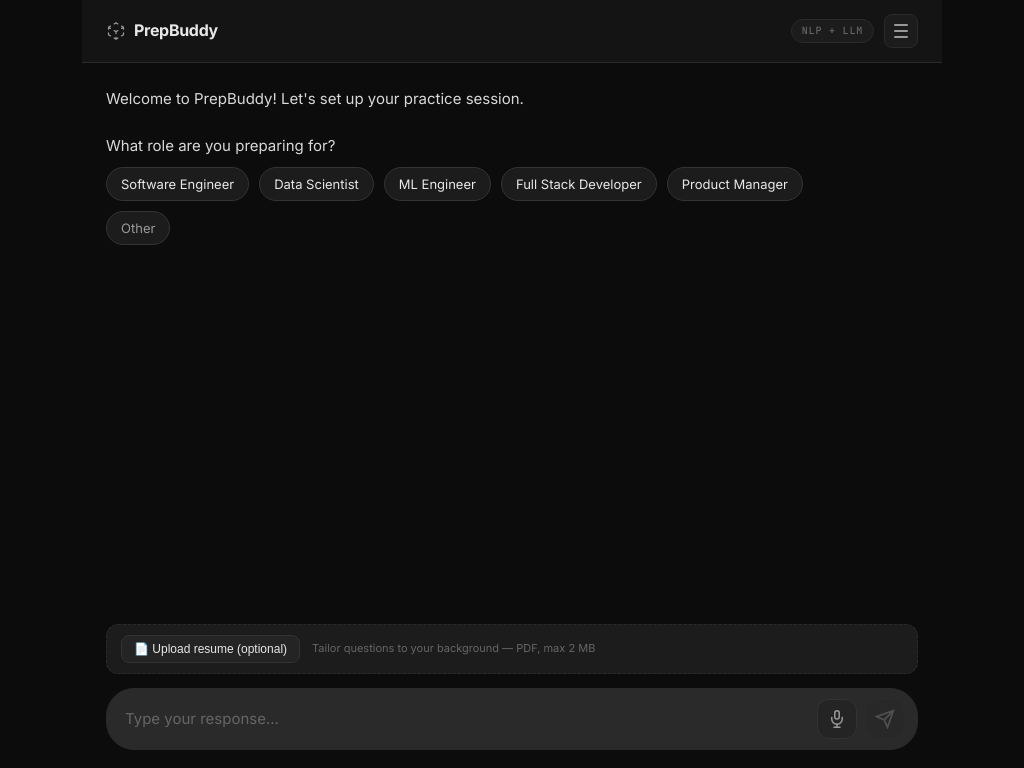
Test: App interrupted evaluation recovery › restores a completed evaluation after the SSE request fails
Click the button "Software Engineer".
click(178, 184)  # box [106,167,249,201]
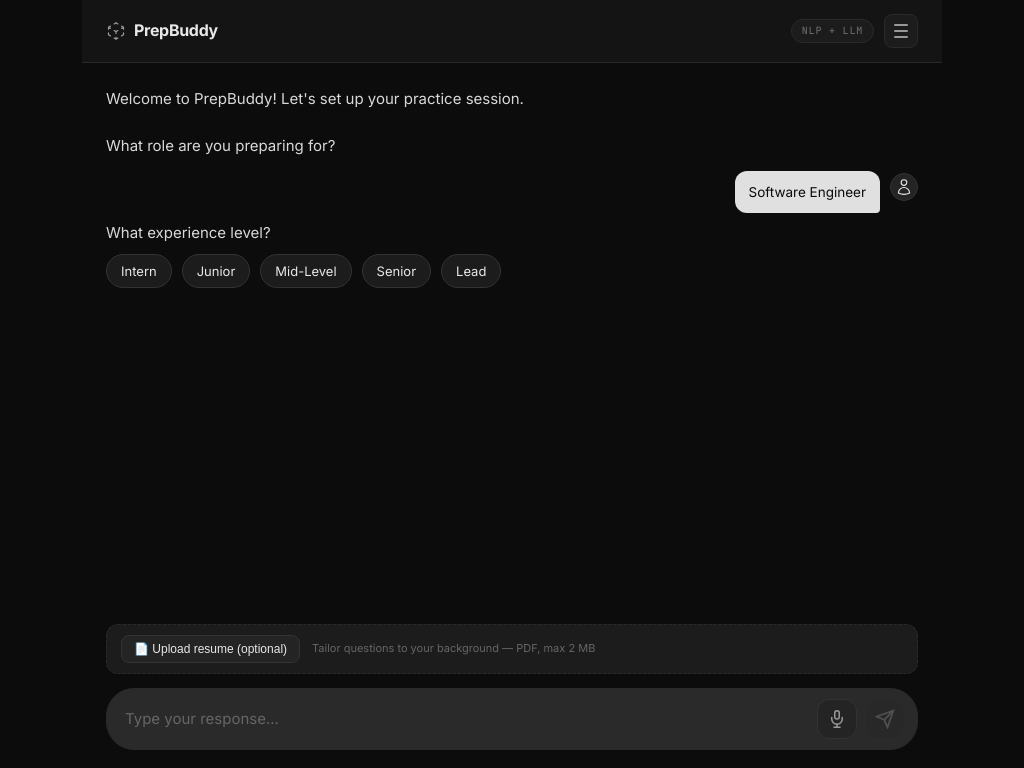
Click the button "Junior".
click(216, 271)  # box [182,254,250,288]
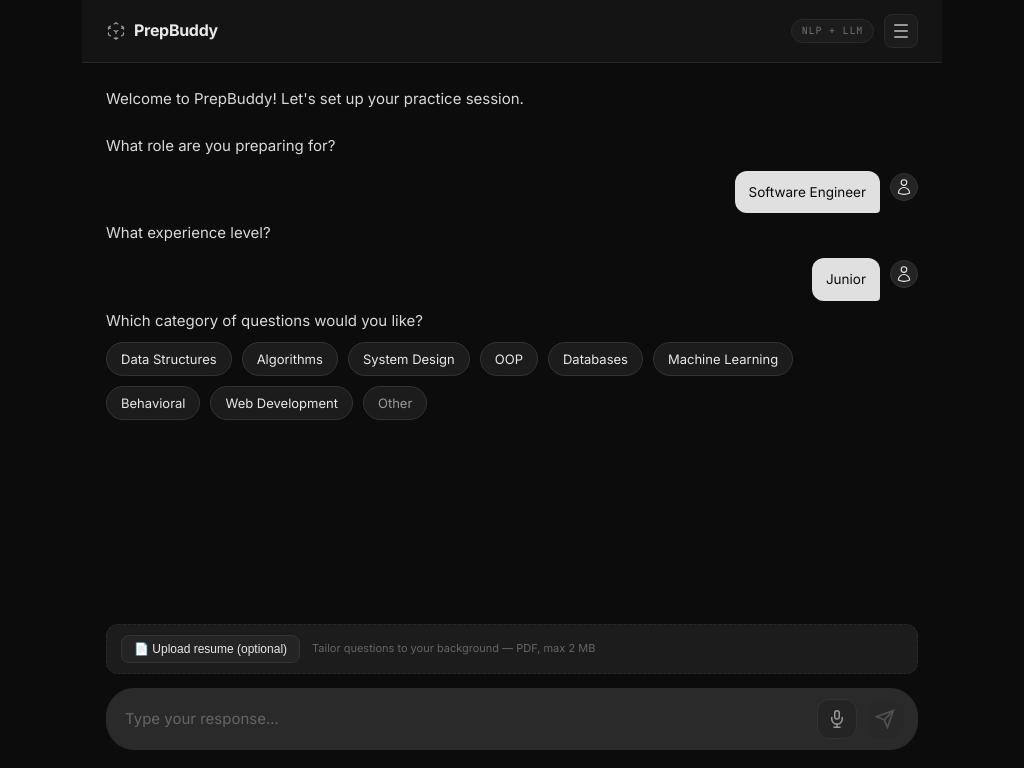
Click the button "System Design".
click(409, 359)  # box [348,342,470,376]
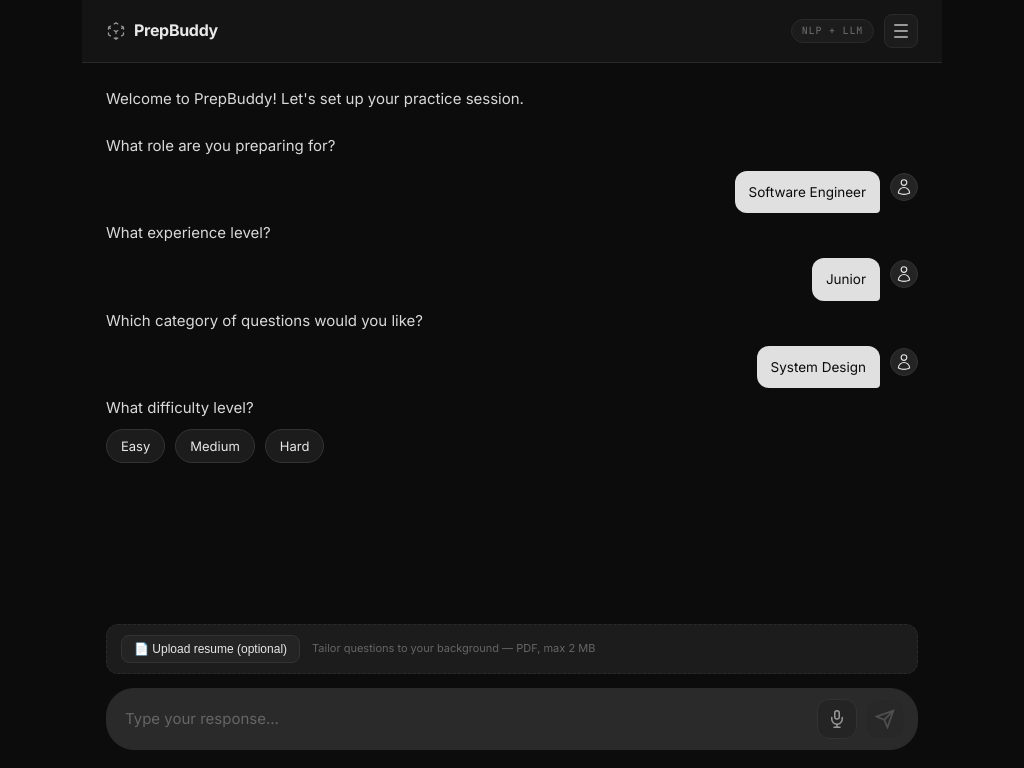
Click the button "Medium".
click(215, 446)  # box [175,429,255,463]
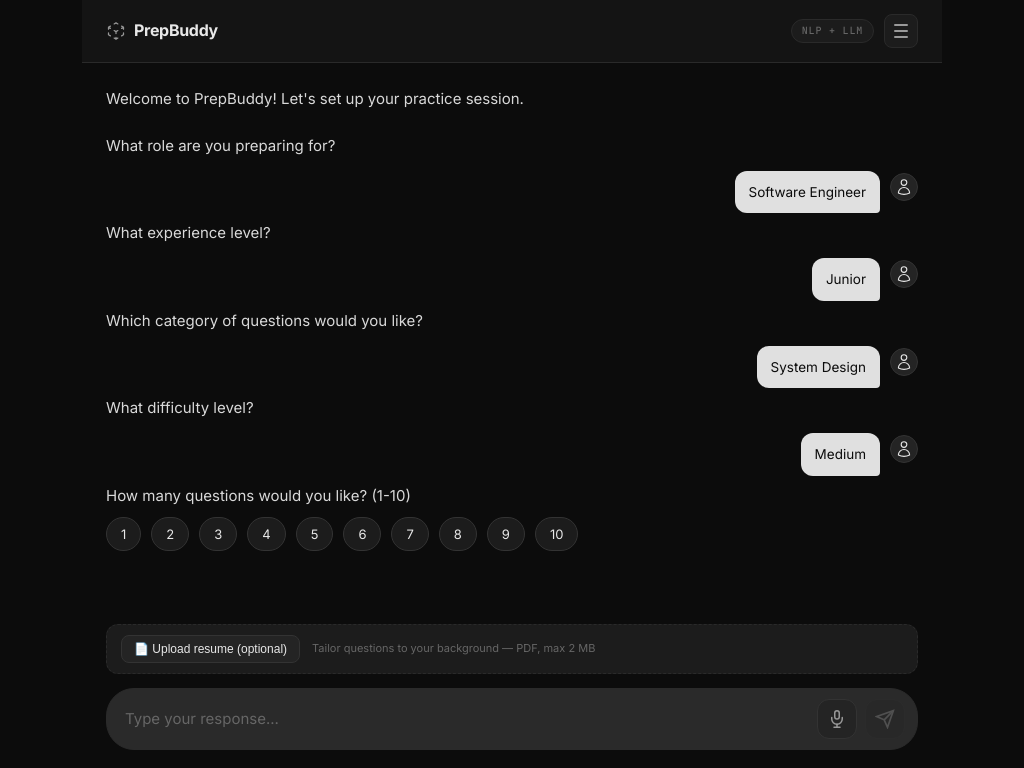
Click the button "2".
click(170, 534)  # box [151,517,189,551]
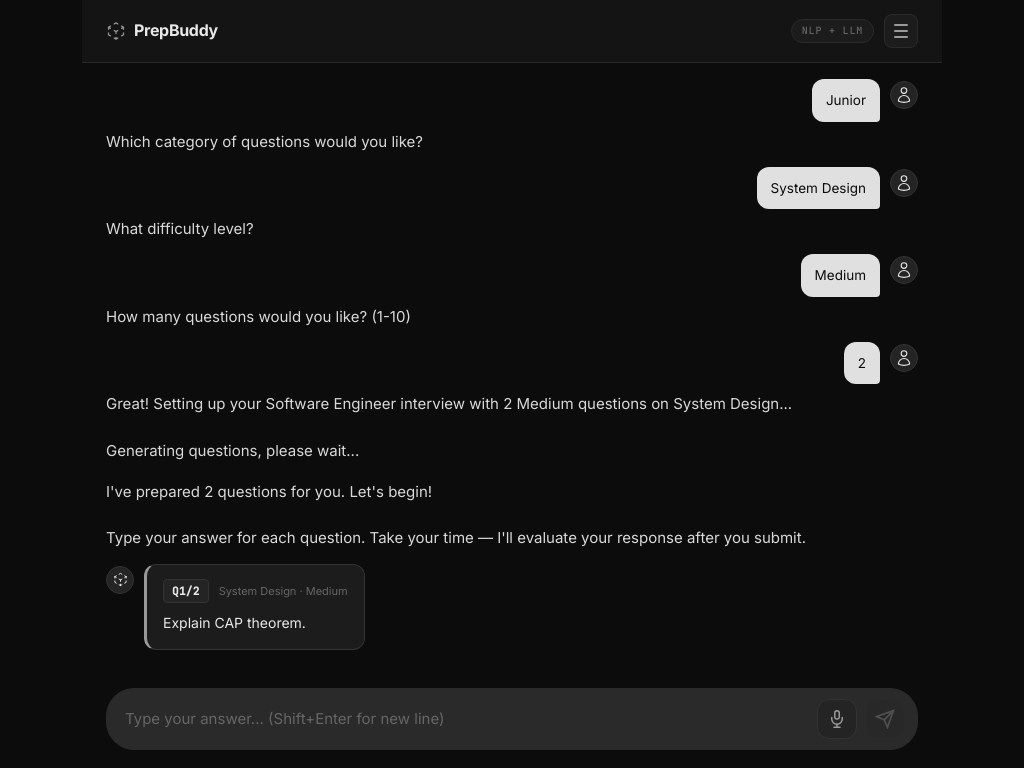
expect the text "Explain CAP theorem." is shown: met, box [163,614,306,631]
Type "My answer" into the text box with placeholder "Type your answer... (Shift+Enter for new line)".
click(466, 719); type("My answer")  # box [123,701,809,737]
Press Enter in the text box with placeholder "Type your answer... (Shift+Enter for new line)", box [123,701,809,737]
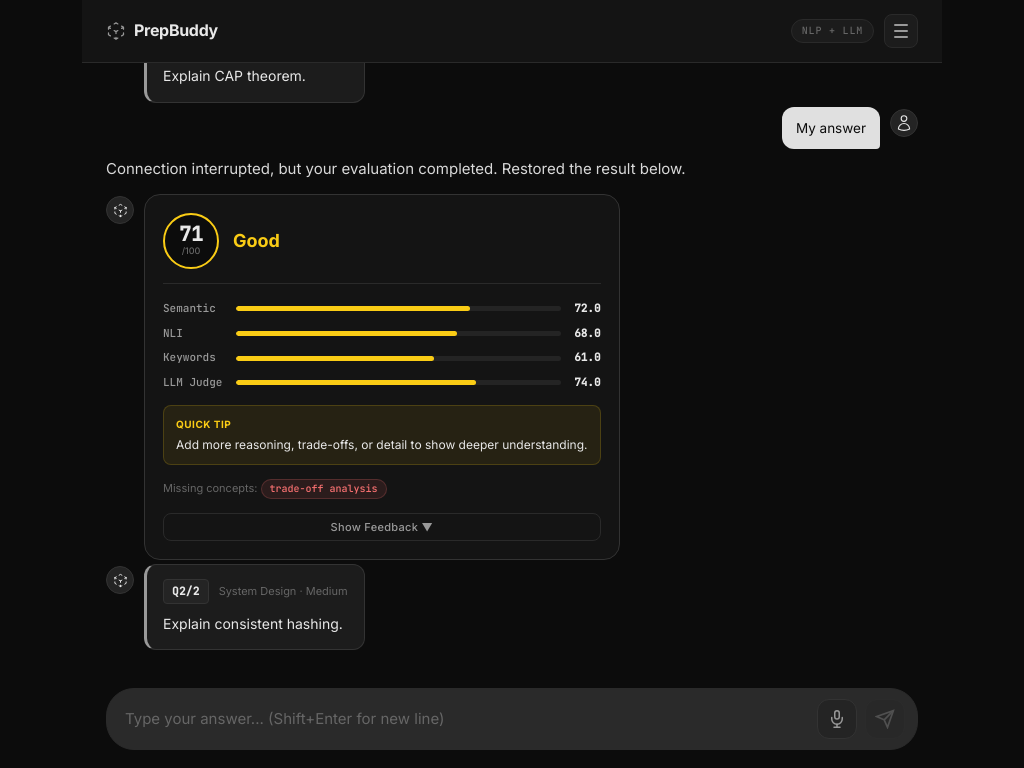
expect the text "Connection interrupted, but your evaluation completed. Restored the result below." is shown: met, box [106,159,686,178]
expect the text "trade-off analysis" is shown: met, box [260,479,386,499]
expect the text "Explain consistent hashing." is shown: met, box [163,612,348,635]
